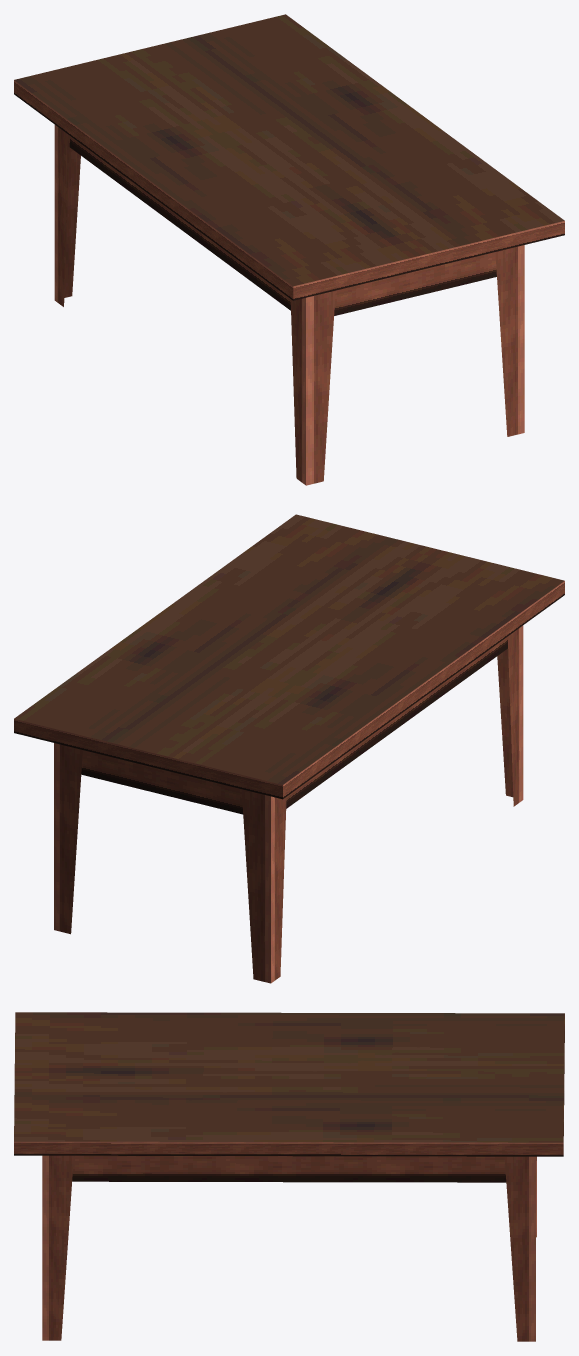
Rendered from primary_236.glb.
The picture shows the model from 3 angles, top to bottom: view 1: azimuth 30°, elevation 25°; view 2: azimuth 150°, elevation 25°; view 3: azimuth 270°, elevation 25°; orthographic projection. The views are drawn at different scales.
Visible parts, largest first — view 1: Object; view 2: Object; view 3: Object.
Part boxes in pixels (x1,y1,x2,y2): Object: (14, 14, 564, 485); Object: (14, 514, 564, 983); Object: (14, 1012, 564, 1341).
Size of the model in its own units: 1.18 by 0.8928 by 2.11.
Materials: 4 (4 with a texture image).
